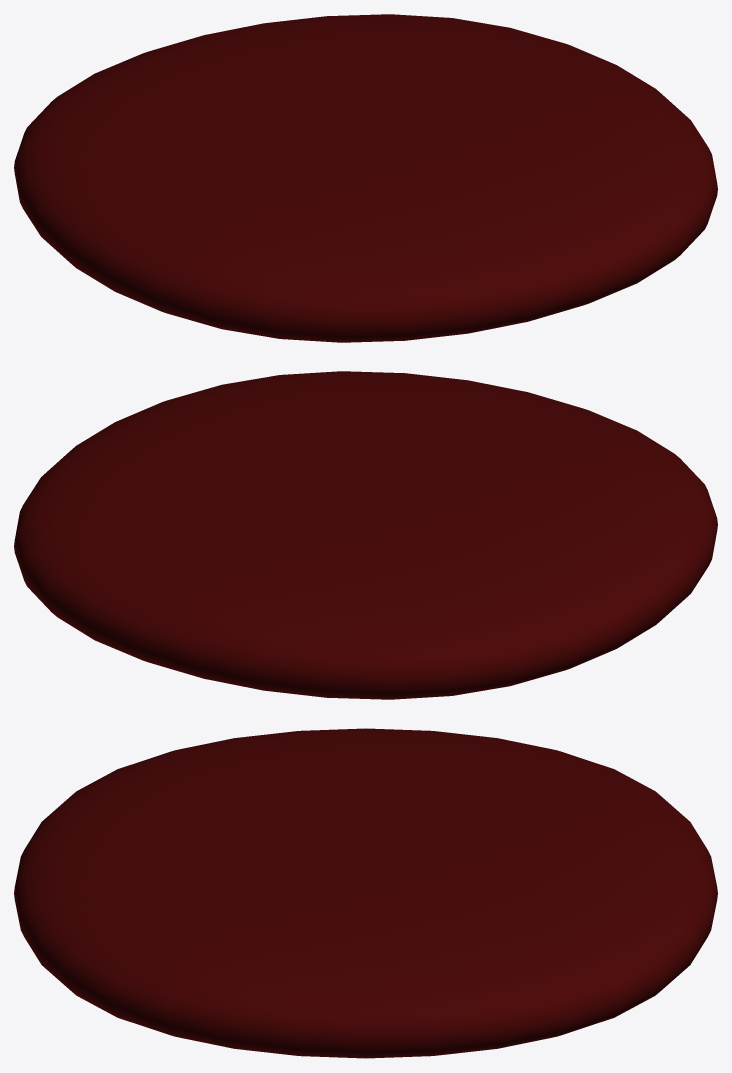
Rendered from carne.glb.
3 views of the same model, one above another, from view 1: azimuth 30°, elevation 25°; view 2: azimuth 150°, elevation 25°; view 3: azimuth 270°, elevation 25° (orthographic). The views are drawn at different scales.
Visible parts, largest first — view 1: Carne; view 2: Carne; view 3: Carne.
Boxes of the visible parts, x1,y1,x2,y2 form: Carne: (14, 14, 717, 342); Carne: (14, 371, 717, 699); Carne: (14, 728, 717, 1058).
Size of the model in its own units: 1.98 by 0.3034 by 1.98.
